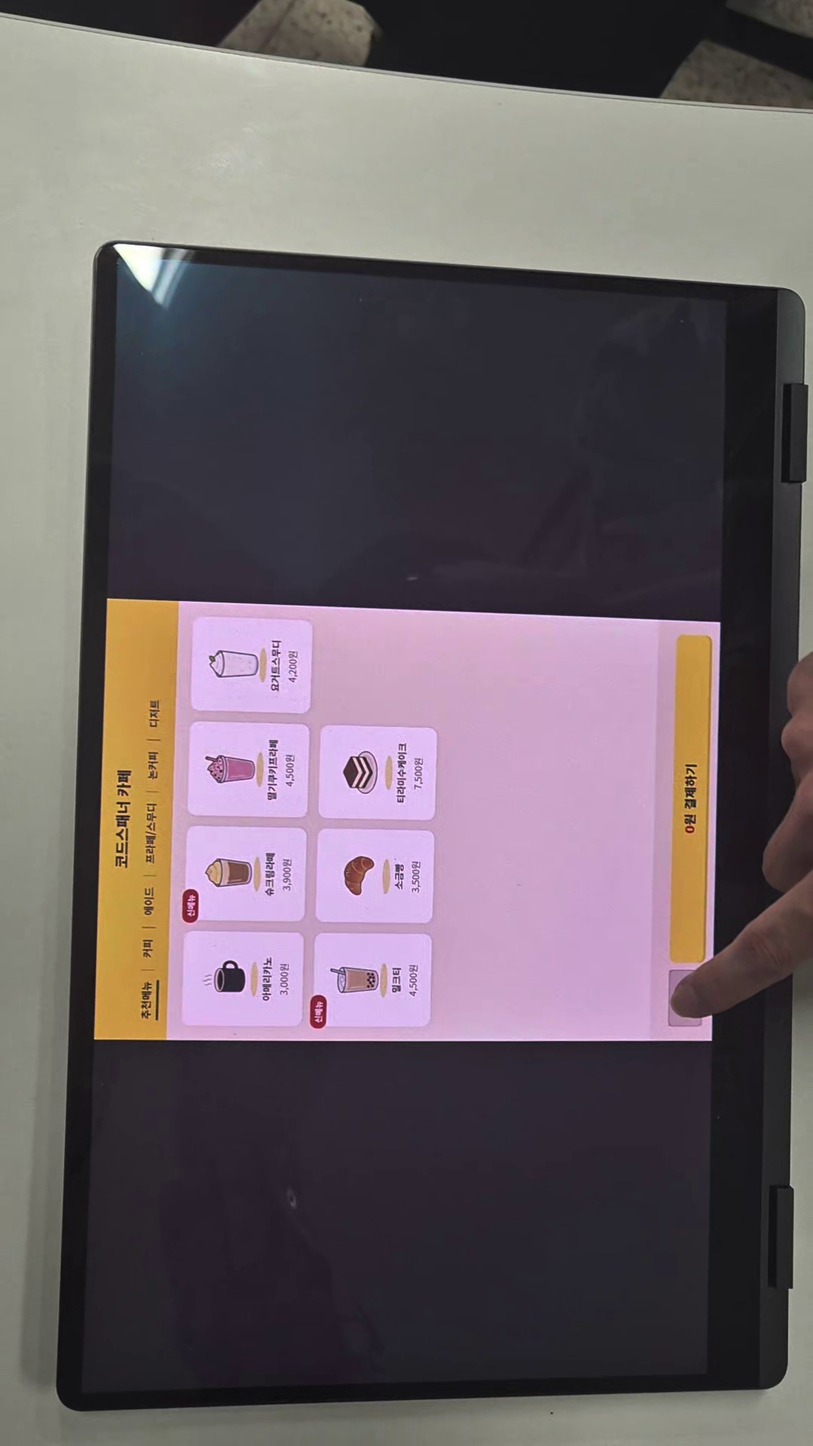action_button: (669, 633, 706, 963)
category_tab: (139, 799, 161, 868), (141, 696, 164, 734), (139, 880, 157, 919), (139, 978, 154, 1021), (143, 748, 160, 784), (141, 935, 156, 966)
menu_back: (188, 719, 312, 817), (189, 613, 312, 711), (185, 827, 304, 925), (319, 724, 434, 822), (317, 831, 435, 924), (183, 933, 303, 1024), (316, 932, 438, 1019)
menu_name: (262, 733, 283, 804), (262, 849, 281, 898), (267, 638, 284, 692), (259, 952, 275, 1004), (396, 737, 407, 810), (387, 960, 405, 1004), (393, 859, 407, 894)
menu_price: (410, 853, 426, 904), (285, 751, 301, 792), (412, 751, 426, 797), (286, 647, 301, 688), (281, 854, 296, 895), (408, 956, 421, 1000), (277, 960, 291, 1000)
